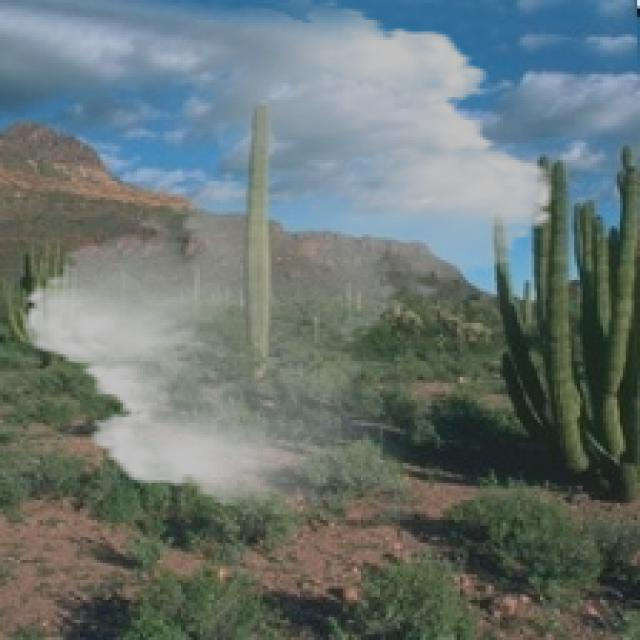Smoke: (5, 0, 572, 515)
